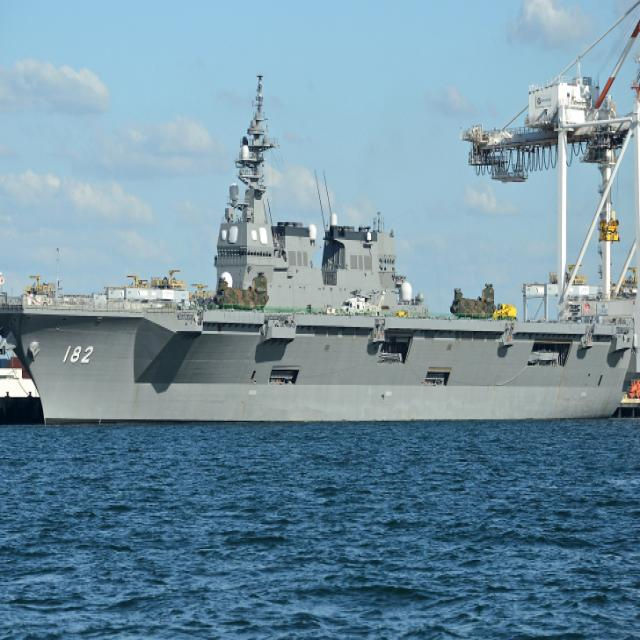Portanaves: (1, 67, 640, 441)
